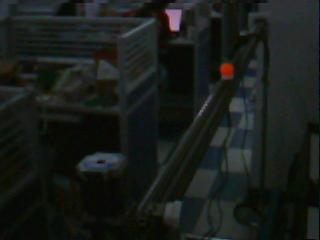oball: (221, 62, 233, 75)
